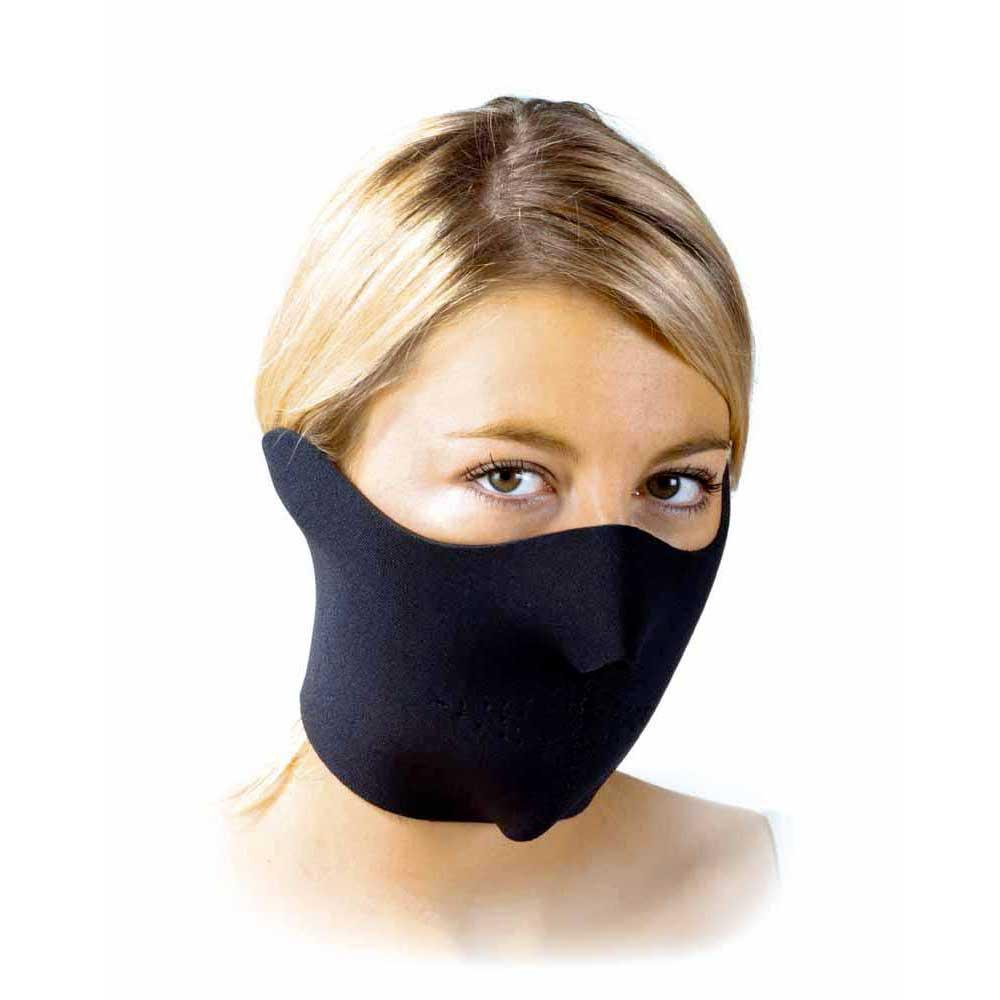Wearing Mask: (207, 58, 814, 918)
